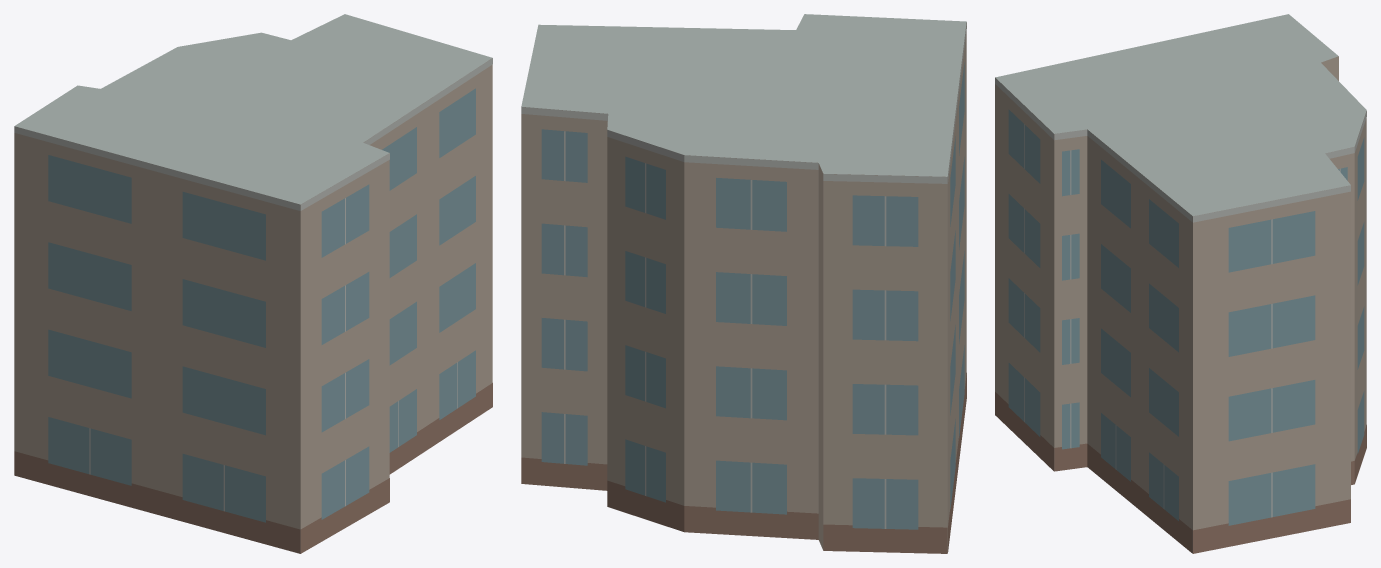
File: survey-upis-32978070.glb
3 renders of one model, left to right at view 1: azimuth 30°, elevation 25°; view 2: azimuth 150°, elevation 25°; view 3: azimuth 270°, elevation 25°, orthographic. The views are drawn at different scales.
Parts seen in each view (by area): view 1: survey-upis-32978070.tmp; view 2: survey-upis-32978070.tmp; view 3: survey-upis-32978070.tmp.
Part boxes in pixels (x1,y1,x2,y2): survey-upis-32978070.tmp: (14, 14, 492, 553); survey-upis-32978070.tmp: (521, 14, 966, 553); survey-upis-32978070.tmp: (995, 14, 1366, 553).
Size of the model in its own units: 16.58 by 12.9 by 12.88.
